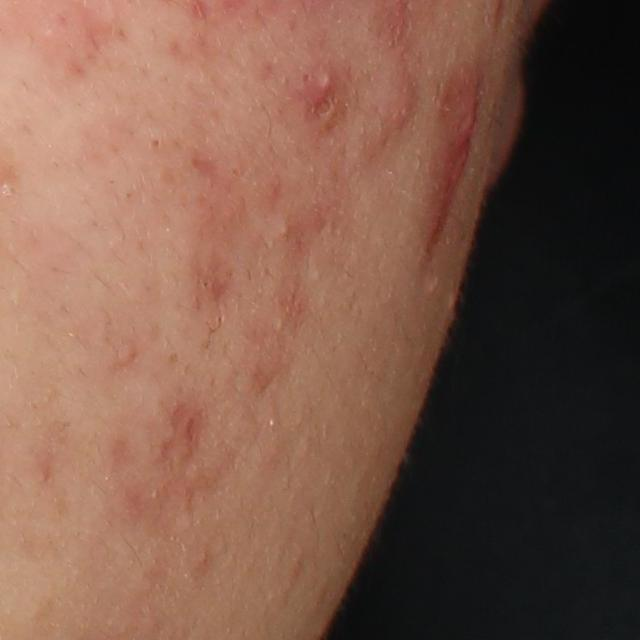atrophic_scar: (192, 155, 224, 187)
comedo: (148, 135, 164, 153), (276, 221, 291, 239)
papule: (441, 82, 483, 186), (378, 70, 419, 133)
pustule: (298, 59, 345, 107)
